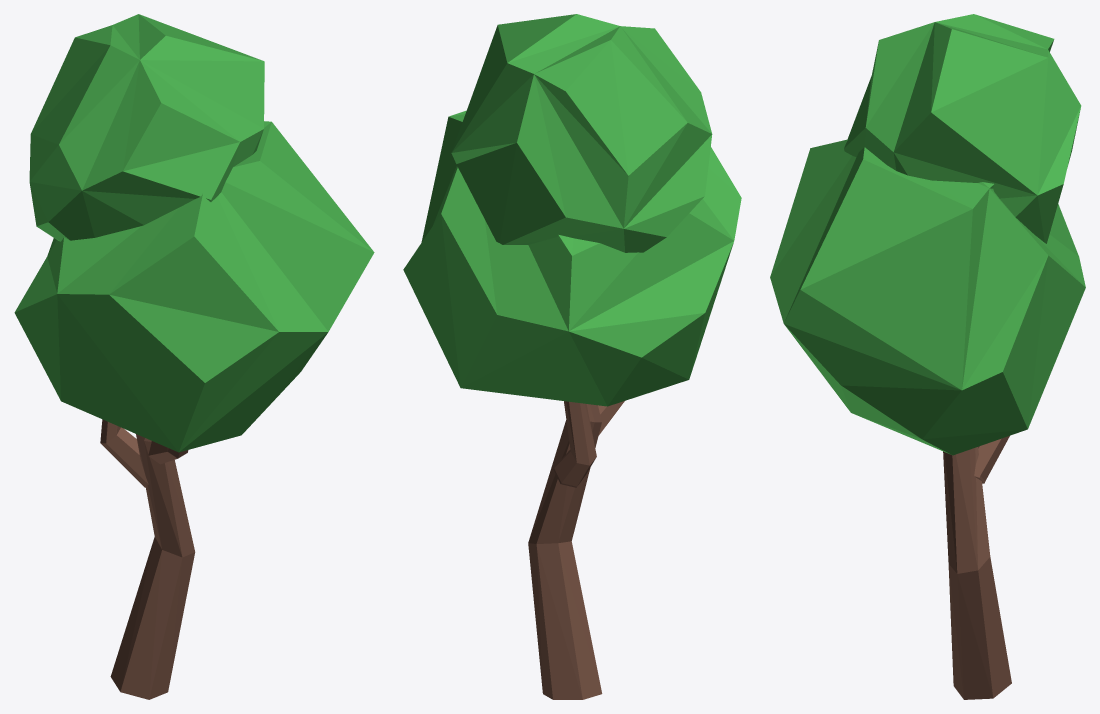
Rendered from Woods Tree B.glb.
3 views of the same model, side by side, from view 1: azimuth 30°, elevation 25°; view 2: azimuth 150°, elevation 25°; view 3: azimuth 270°, elevation 25° (orthographic).
Visible parts, largest first — view 1: mesh313951583, mesh313951583_1; view 2: mesh313951583, mesh313951583_1; view 3: mesh313951583, mesh313951583_1.
Part boxes in pixels (x1,y1,x2,y2): mesh313951583: (14,14,374,452); mesh313951583_1: (100,419,195,699); mesh313951583: (403,14,741,406); mesh313951583_1: (528,401,624,699); mesh313951583: (770,14,1085,455); mesh313951583_1: (943,436,1011,699).
Bounding box in the file's own units: 2.13 × 4.61 × 1.98.
